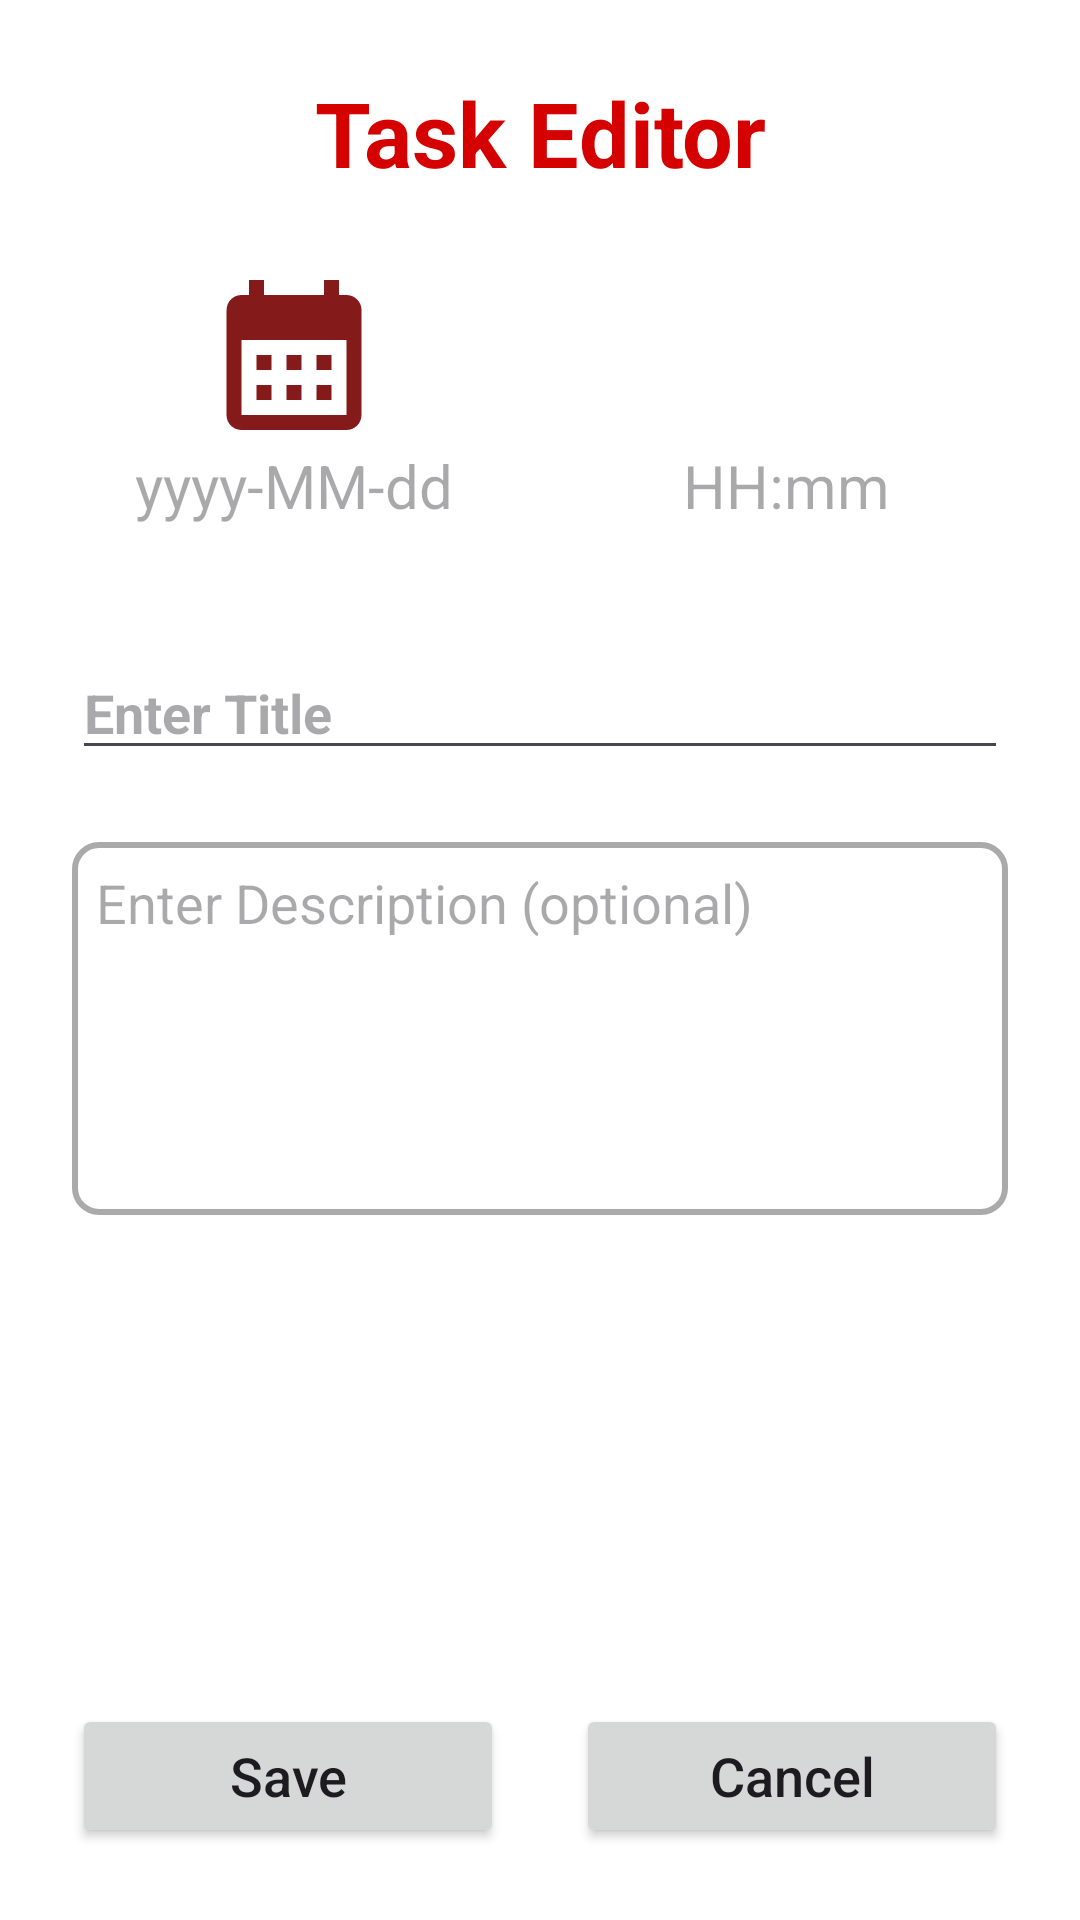

Named icons in this screenshot (1080w x 1920h) and their centers, (x,y):
calendar: (294,355)
